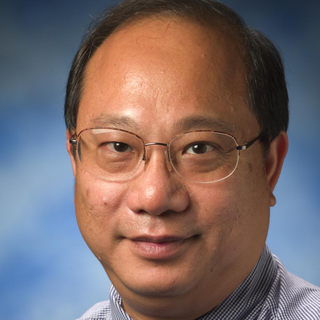eye: (97, 136, 140, 162), (177, 138, 221, 163)
